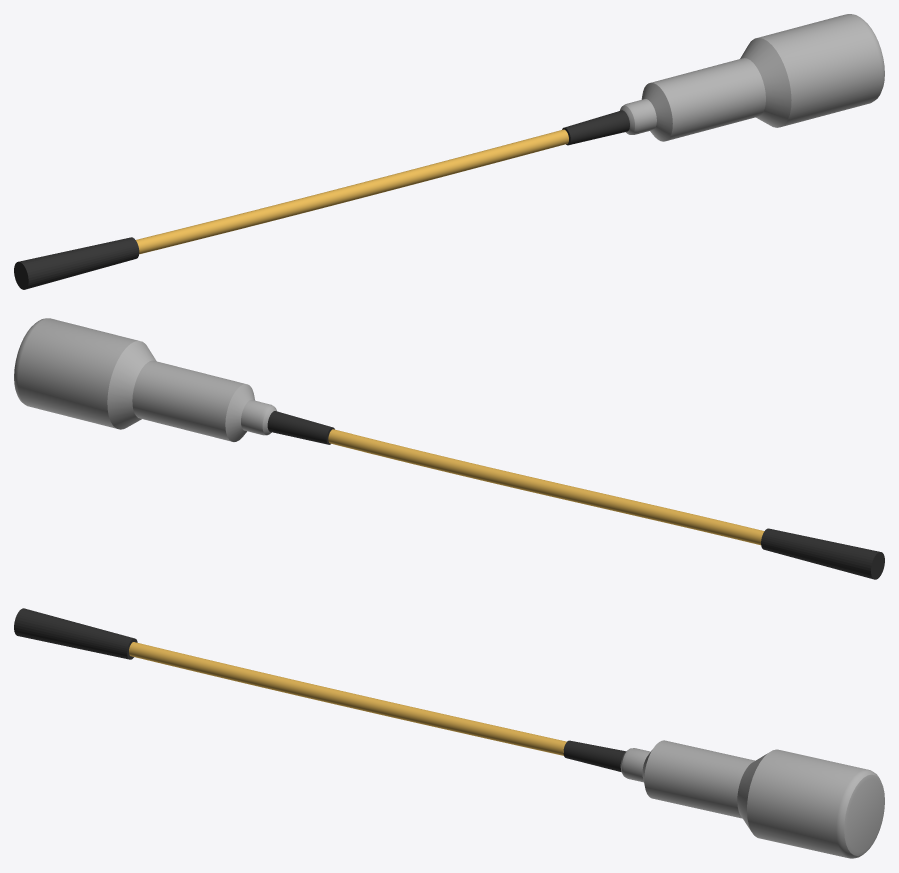
Rendered from fibra.fbx.
3 renders of one model, top to bottom at view 1: azimuth 30°, elevation 25°; view 2: azimuth 150°, elevation 25°; view 3: azimuth 330°, elevation 25°, orthographic.
Visible parts, largest first — view 1: Optical fibre.001; view 2: Optical fibre.001; view 3: Optical fibre.001.
Part boxes in pixels (<box>): Optical fibre.001: <box>14,14,884,289</box>; Optical fibre.001: <box>14,318,884,579</box>; Optical fibre.001: <box>14,608,884,858</box>.
Size of the model in its own units: 1.31 by 0.1258 by 0.1253.
